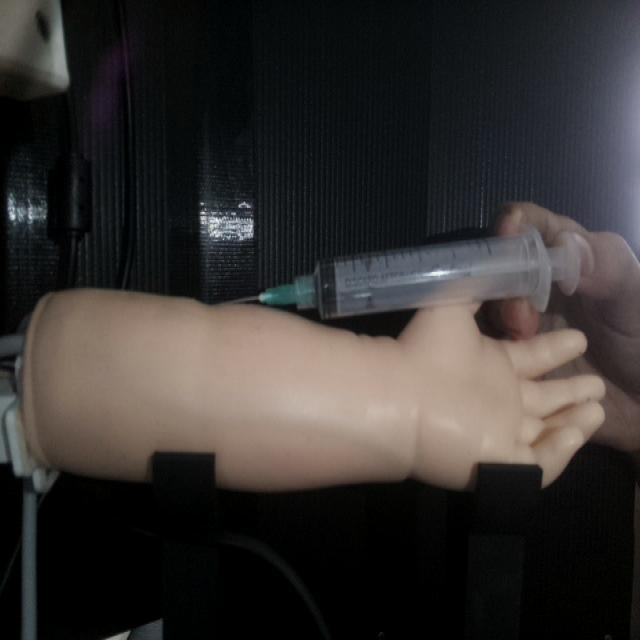Below 15 degrees: (226, 224, 583, 321)
